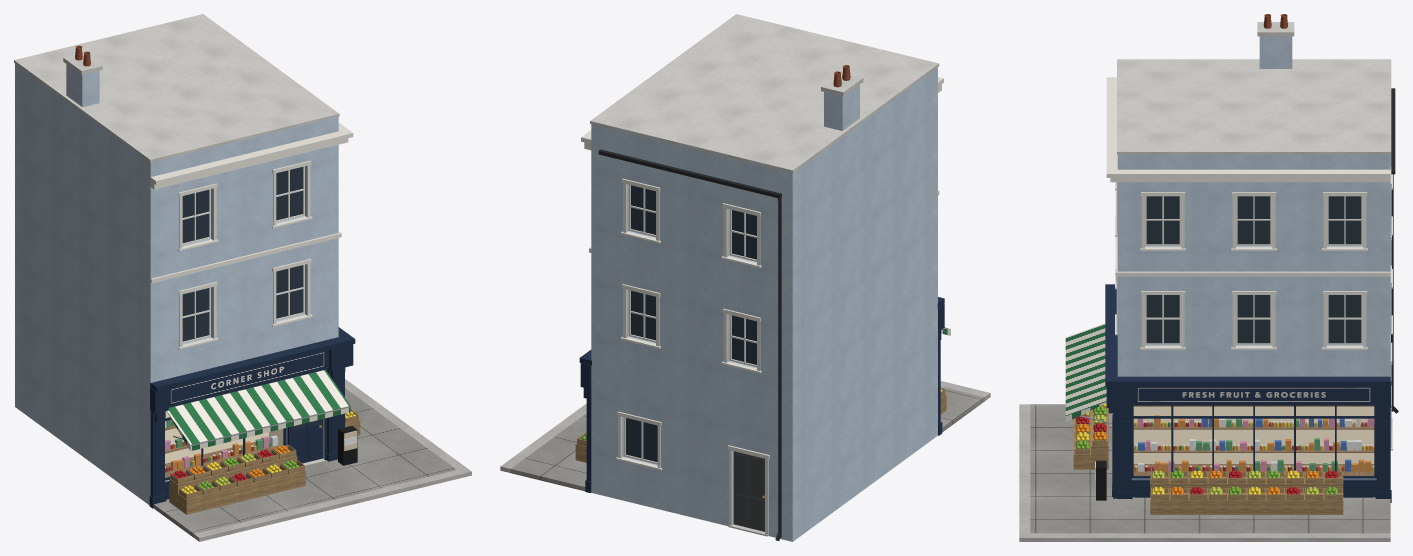
Rendered from corner-shop.glb.
3 renders of one model, left to right at view 1: azimuth 30°, elevation 25°; view 2: azimuth 150°, elevation 25°; view 3: azimuth 270°, elevation 25°, orthographic. The views are drawn at different scales.
Visible parts, largest first — view 1: Corner_Shop; view 2: Corner_Shop; view 3: Corner_Shop.
Part boxes in pixels (box(x1,y1,x2,y2)): Corner_Shop: box(14, 14, 471, 541); Corner_Shop: box(500, 14, 990, 541); Corner_Shop: box(1019, 14, 1398, 541).
Size of the model in its own units: 8.73 by 12.08 by 10.42.
38 materials, 11 textured.
